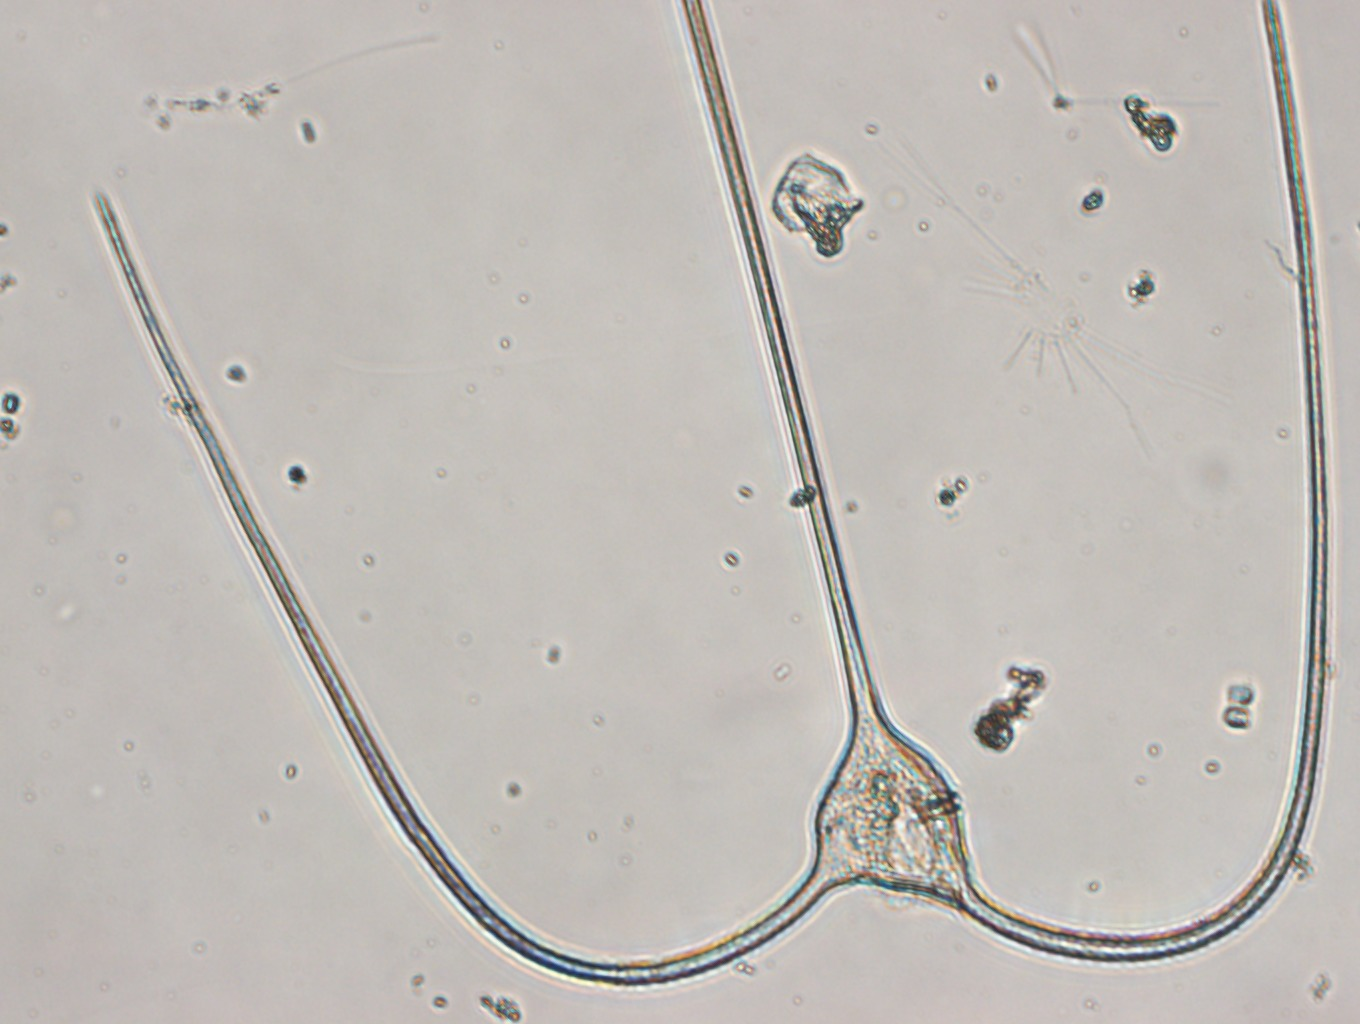ceratium trichoceros: (92, 3, 1360, 997)
